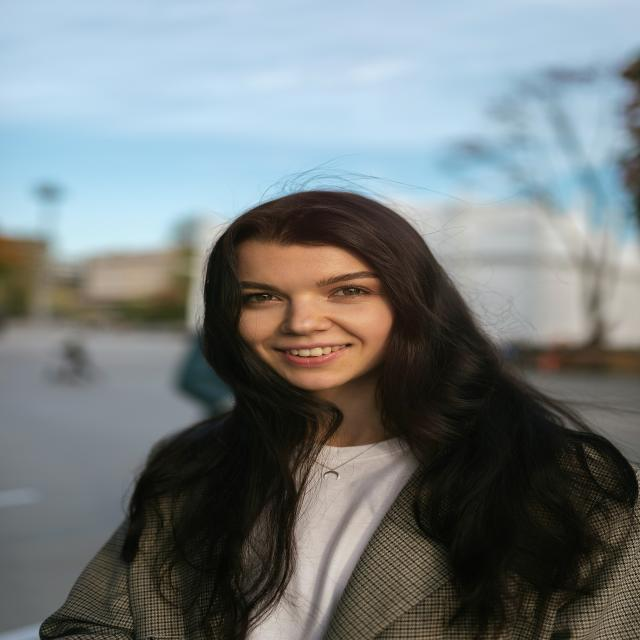human: (52, 188, 640, 640)
